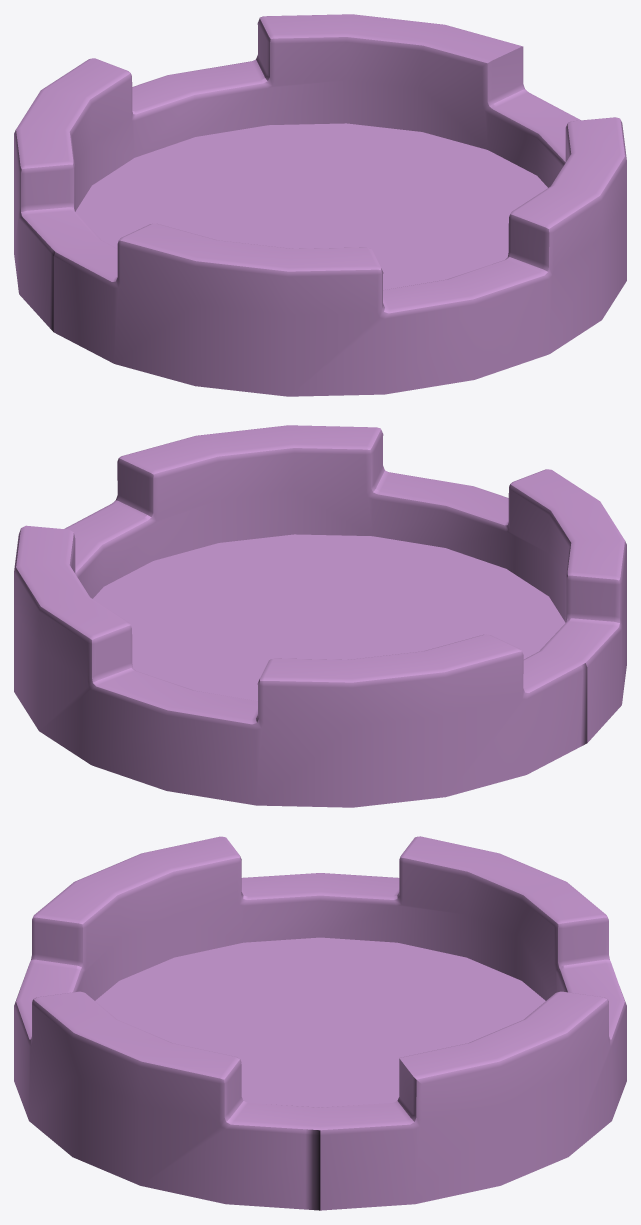
File: AshTray02.fbx
The picture shows the model from 3 angles, top to bottom: view 1: azimuth 30°, elevation 25°; view 2: azimuth 150°, elevation 25°; view 3: azimuth 270°, elevation 25°; orthographic projection.
Visible parts, largest first — view 1: AshTray02_Modelling_v001:AshTray_AshTray; view 2: AshTray02_Modelling_v001:AshTray_AshTray; view 3: AshTray02_Modelling_v001:AshTray_AshTray.
Boxes of the visible parts, x1=… form: AshTray02_Modelling_v001:AshTray_AshTray: x1=14, y1=14, x2=626, y2=396; AshTray02_Modelling_v001:AshTray_AshTray: x1=14, y1=425, x2=626, y2=807; AshTray02_Modelling_v001:AshTray_AshTray: x1=14, y1=836, x2=626, y2=1210.
Size of the model in its own units: 8.93 by 2.02 by 8.93.
1 material, 1 textured.
